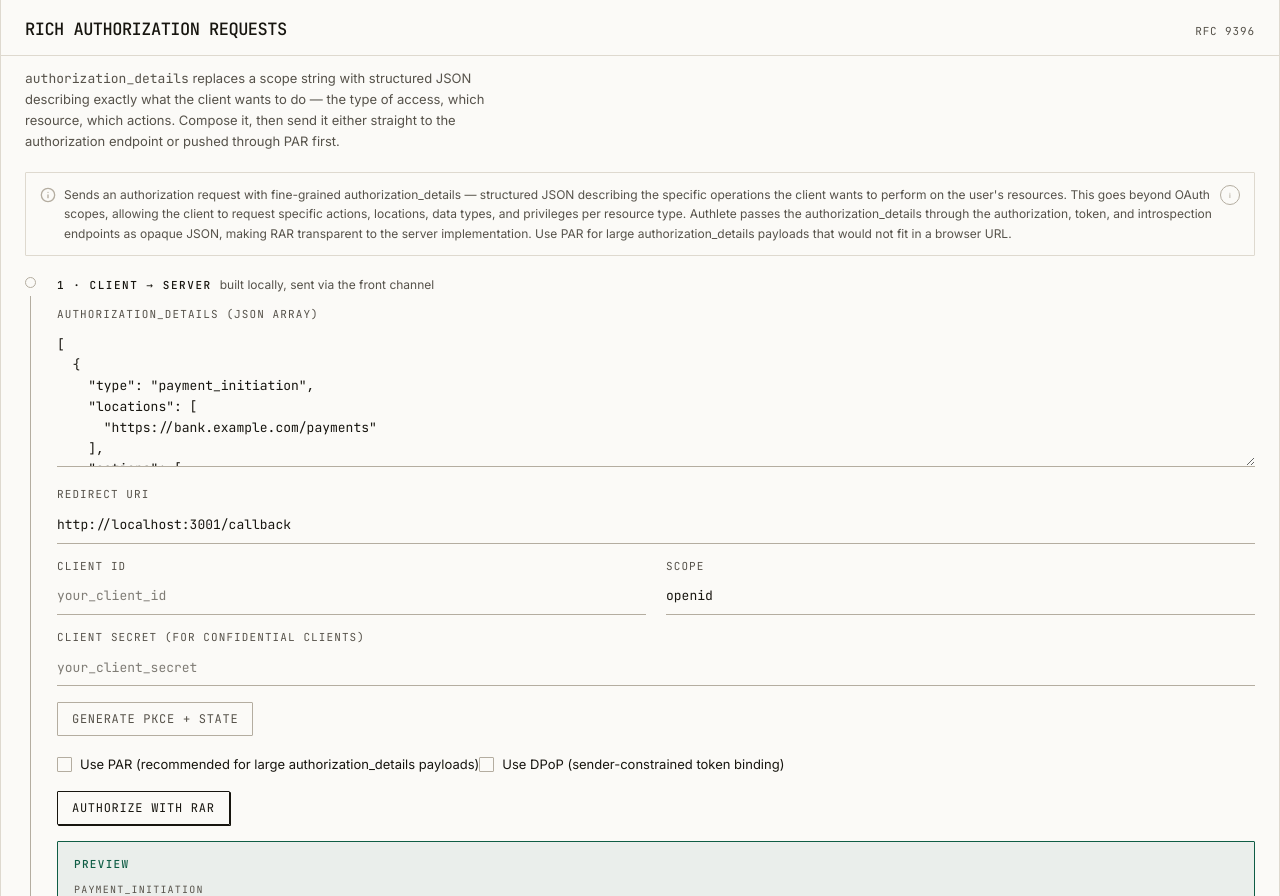
Test case: RAR: the PAR response is read by its RFC 9126 §2.2 names (F-04) › surfaces request_uri from a snake_case response
# "Push PAR Only" only exists once PAR is enabled.
Click the checkbox labelled "PAR".
click(64, 765)  # box top-left (57, 757), bottom-right (72, 772)
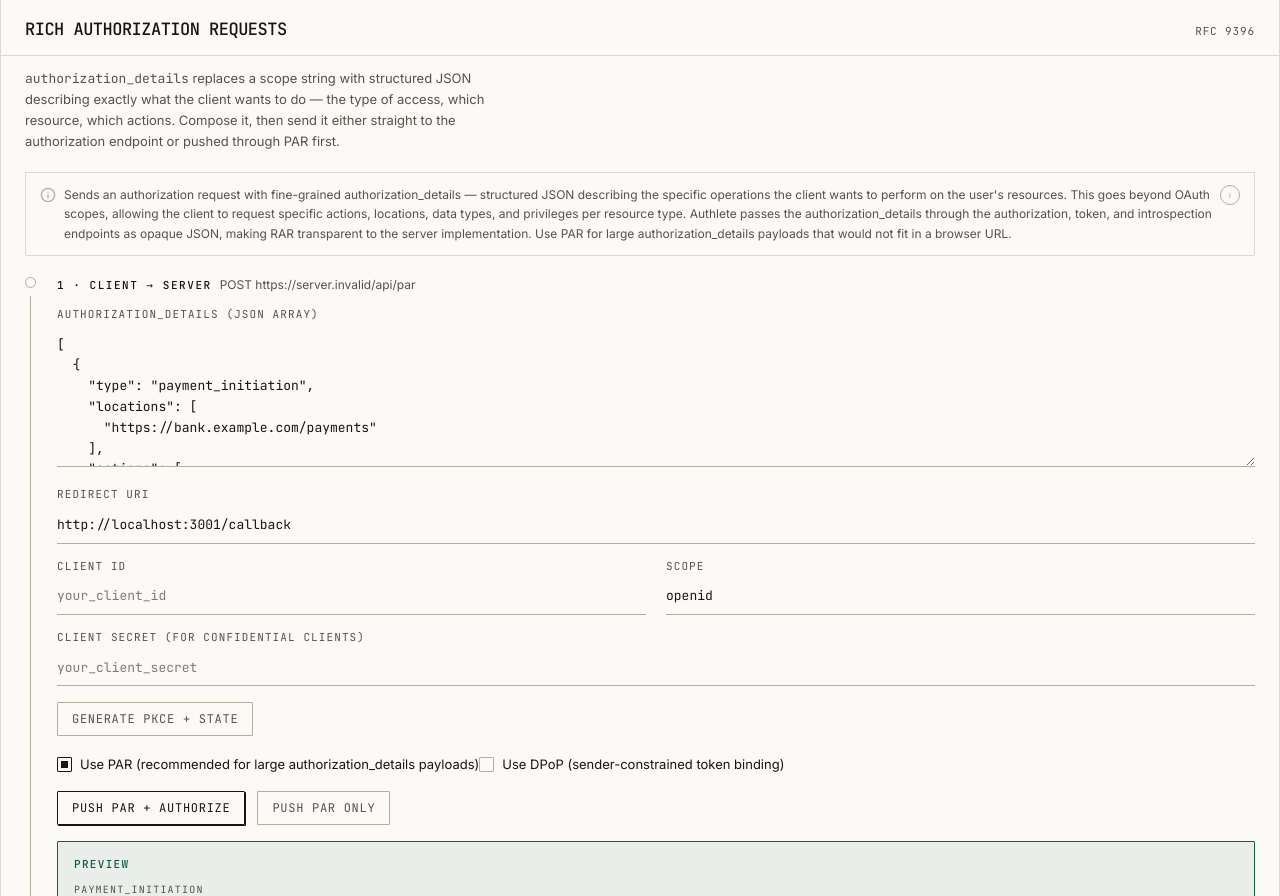
Click the button "Push PAR Only".
click(324, 808)  # box top-left (257, 791), bottom-right (390, 825)
(page scrolled)
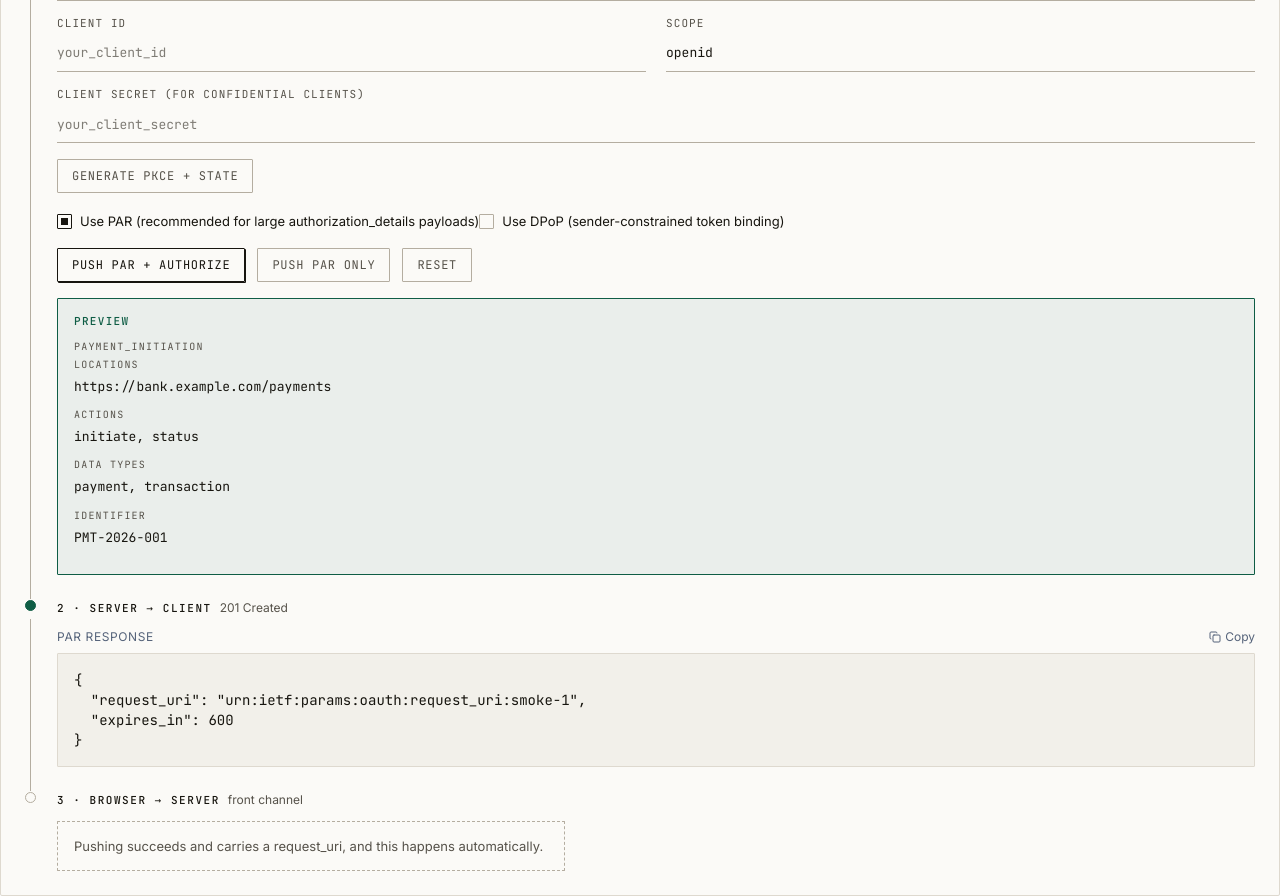
expect the button "Reset" is shown: met, box top-left (402, 248), bottom-right (472, 282)
expect the text "urn:ietf:params:oauth:request_uri:smoke-1" is shown: met, box top-left (74, 671), bottom-right (586, 749)
